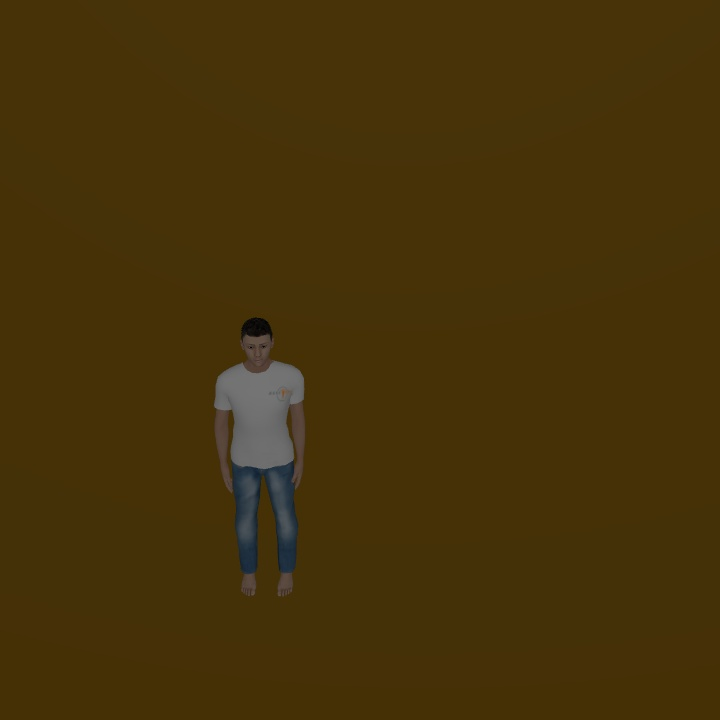victim: (214, 317, 304, 598)
